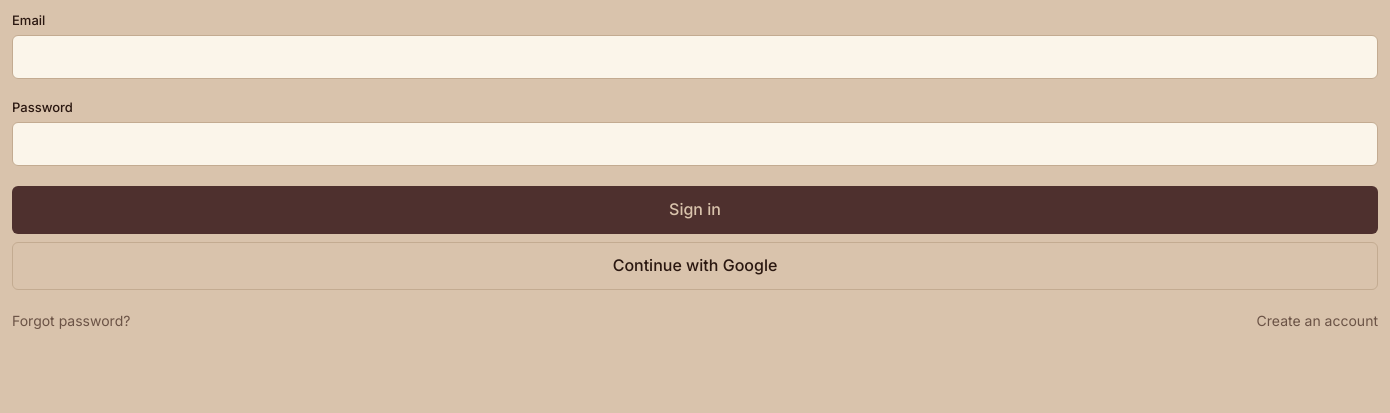
Test: SignInForm › blocks unverified accounts and signs them out
Type "alice@example.com" into the field labelled "Email". click: (695, 57)
box: [12, 35, 1378, 79]
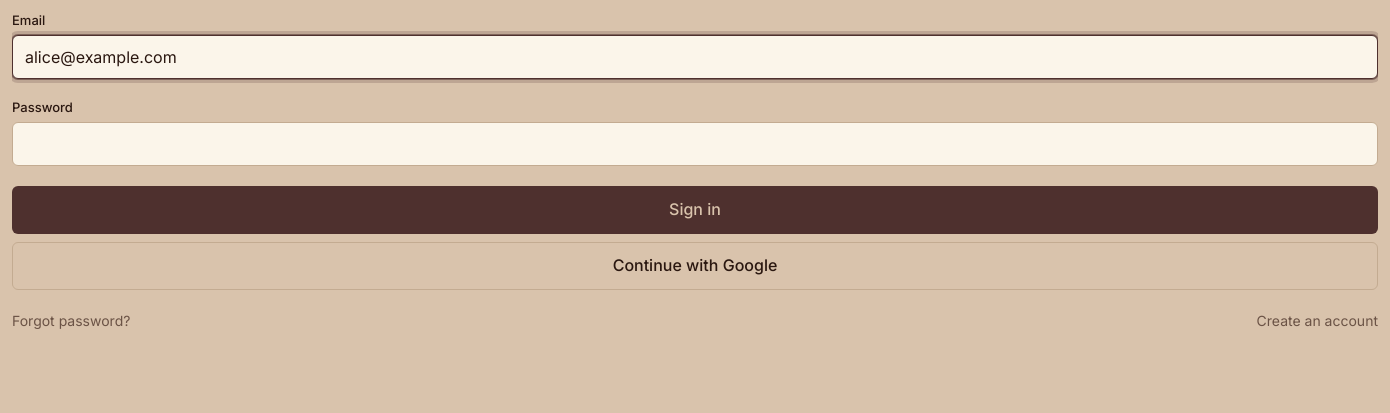
Type "longenoughpw1!" into the password field labelled "Password". click: (695, 144)
box: [12, 122, 1378, 166]
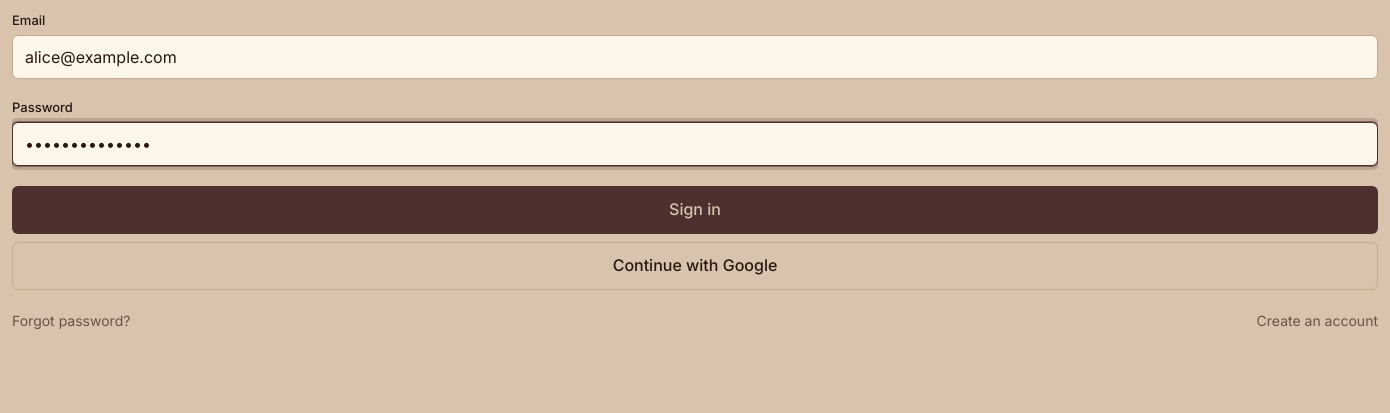
Click the button "Sign in". click: (695, 210)
box: [12, 186, 1378, 234]
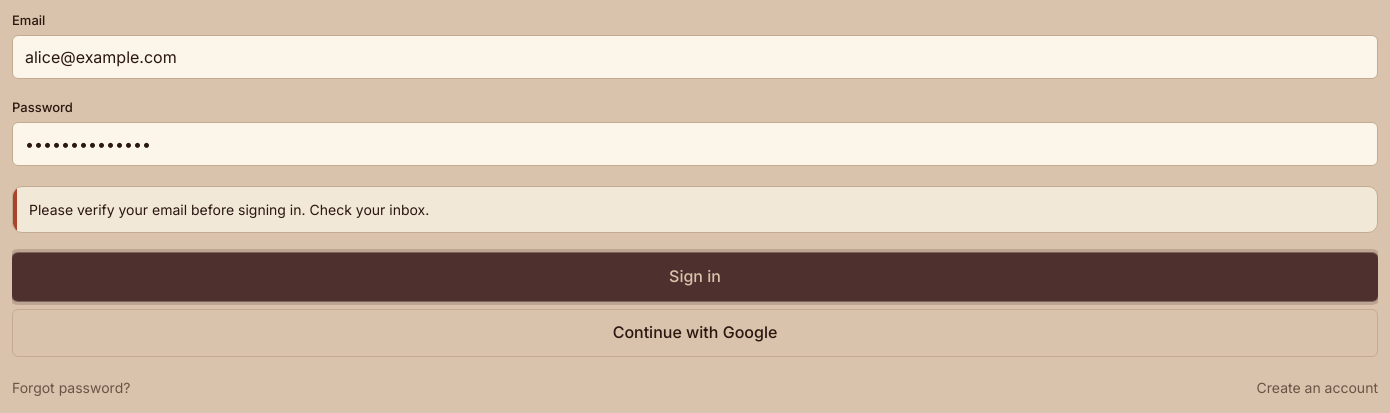
Result: the text "verify your email" is shown at [29, 201, 429, 218]
